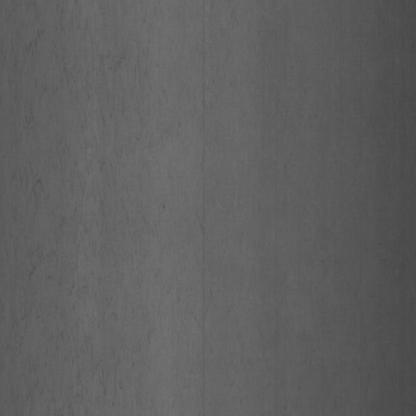silk_spot: (11, 10, 168, 389)
